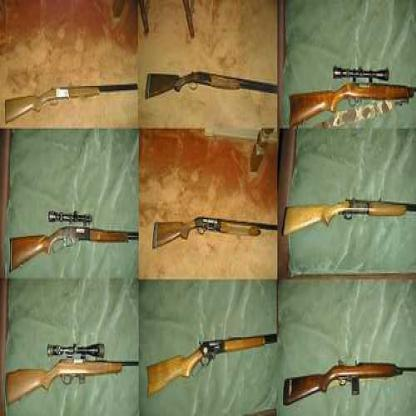Heavy Gun: (151, 324, 277, 393), (13, 208, 138, 268), (6, 72, 138, 128), (296, 64, 413, 114), (11, 344, 133, 389), (287, 197, 416, 239), (287, 359, 416, 399), (148, 69, 276, 100), (155, 214, 275, 245)
